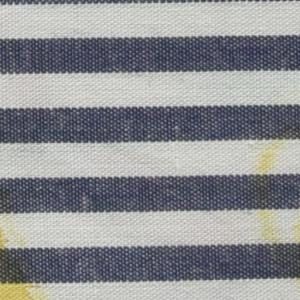Stain: (254, 122, 300, 284), (1, 218, 52, 300)
